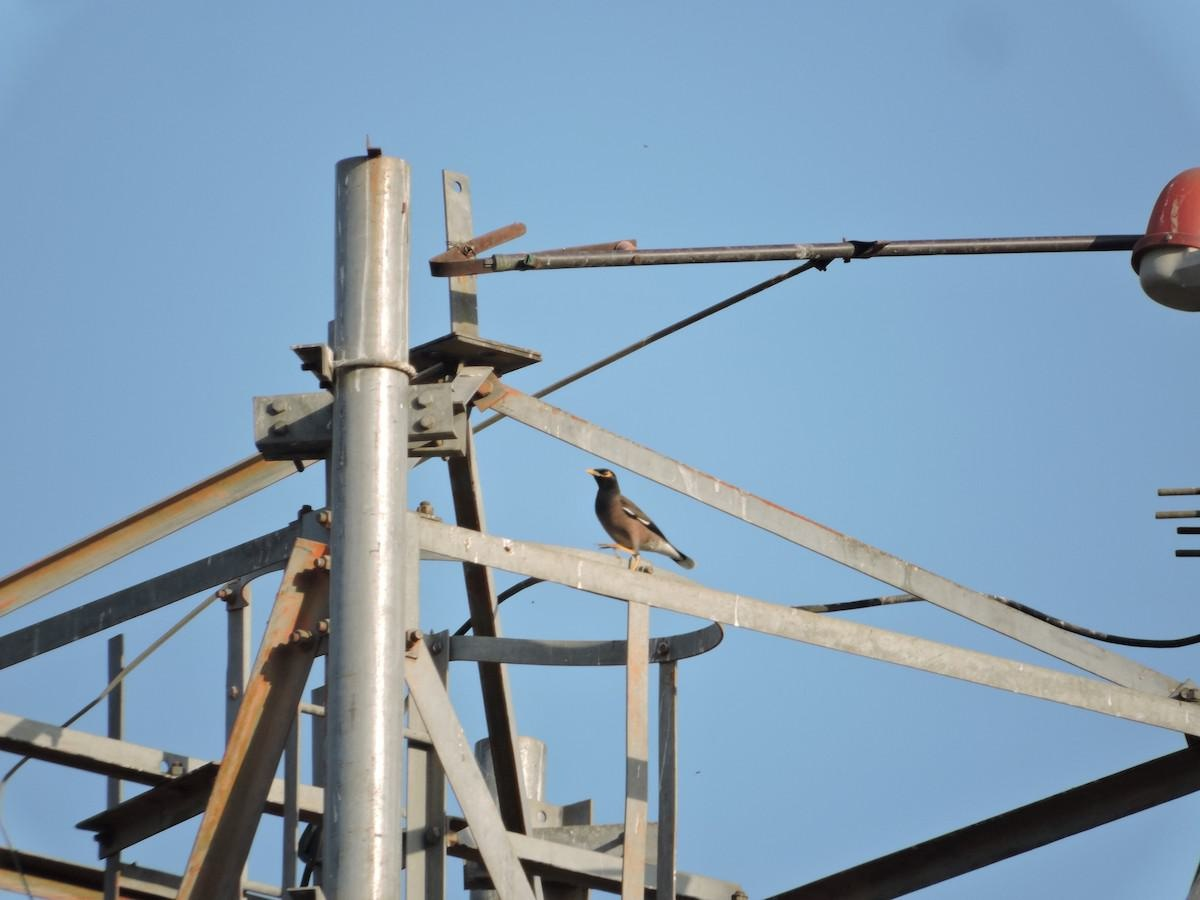myna: (579, 460, 694, 583)
